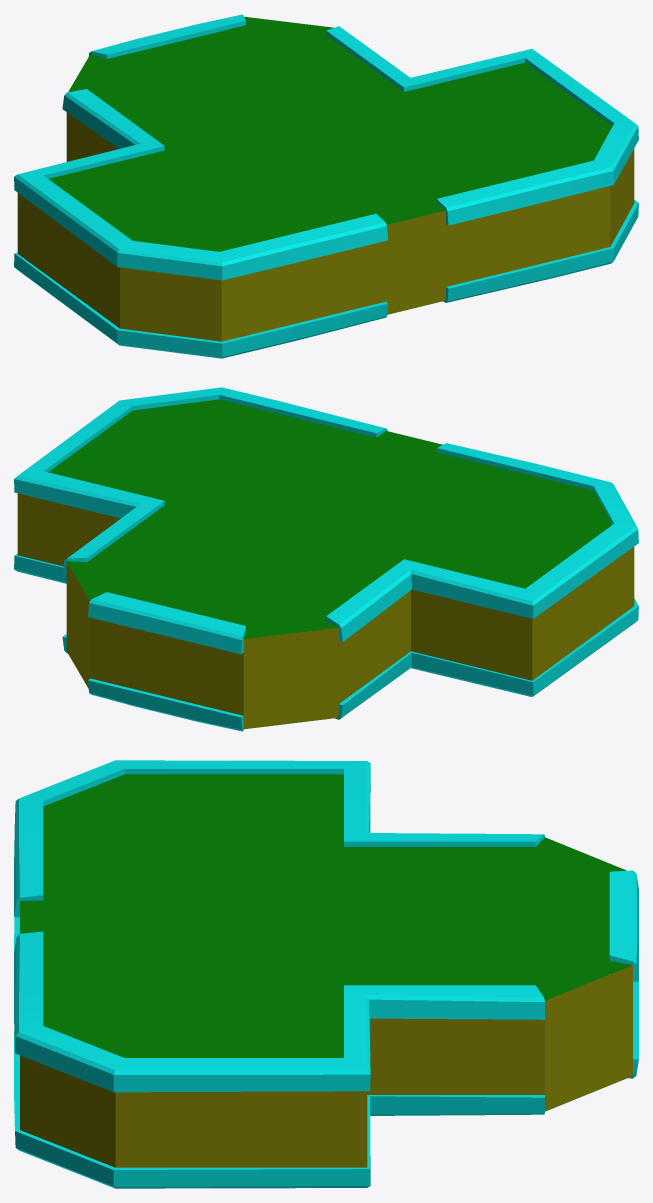
The picture shows the model from 3 angles, top to bottom: view 1: azimuth 30°, elevation 25°; view 2: azimuth 150°, elevation 25°; view 3: azimuth 270°, elevation 25°; orthographic projection. The views are drawn at different scales.
Visible parts, largest first — view 1: polySurface184, polySurface186, polySurface179; view 2: polySurface184, polySurface186, polySurface179; view 3: polySurface184, polySurface179, polySurface186.
Part boxes in pixels (x1,y1,x2,y2): polySurface184: [49, 16, 612, 251]; polySurface186: [17, 112, 634, 341]; polySurface179: [14, 14, 638, 358]; polySurface184: [48, 399, 612, 729]; polySurface186: [17, 493, 634, 728]; polySurface179: [14, 387, 638, 731]; polySurface184: [20, 774, 632, 1110]; polySurface179: [14, 760, 638, 1188]; polySurface186: [20, 965, 632, 1167].
Bounding box in the file's own units: 52.31 × 9.5 × 44.1.
